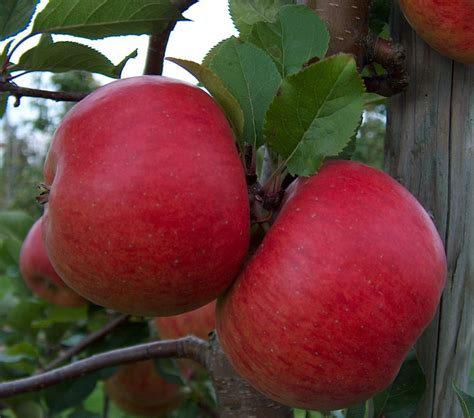apple: (215, 159, 452, 412), (33, 73, 255, 320)
